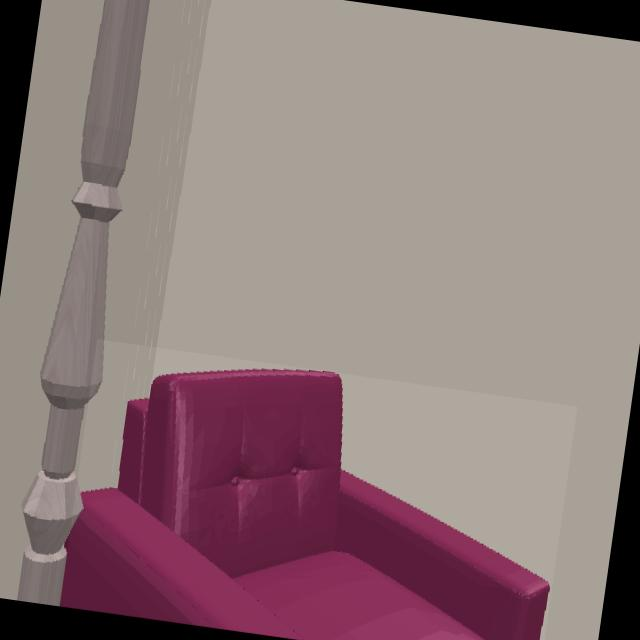sofa: (60, 371, 551, 640)
